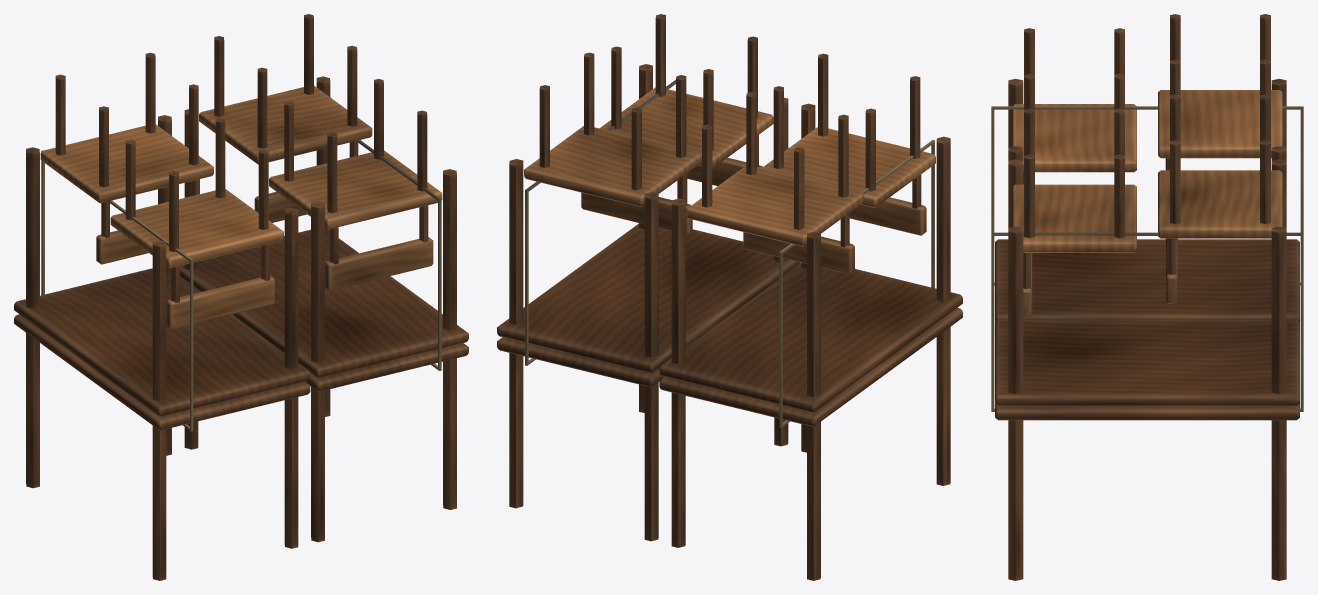
Rendered from Furn_Vacant_StackedDesks.fbx.
3 views of the same model, side by side, from view 1: azimuth 30°, elevation 25°; view 2: azimuth 150°, elevation 25°; view 3: azimuth 270°, elevation 25° (orthographic). The views are drawn at different scales.
Parts seen in each view (by area): view 1: Furn_Vacant_StackedDesks; view 2: Furn_Vacant_StackedDesks; view 3: Furn_Vacant_StackedDesks.
Part boxes in pixels (x1,y1,x2,y2): Furn_Vacant_StackedDesks: (14, 14, 468, 580); Furn_Vacant_StackedDesks: (497, 14, 962, 580); Furn_Vacant_StackedDesks: (991, 14, 1303, 580).
Size of the model in its own units: 1.2 by 1.5 by 1.
Materials: 3 (3 with a texture image).
